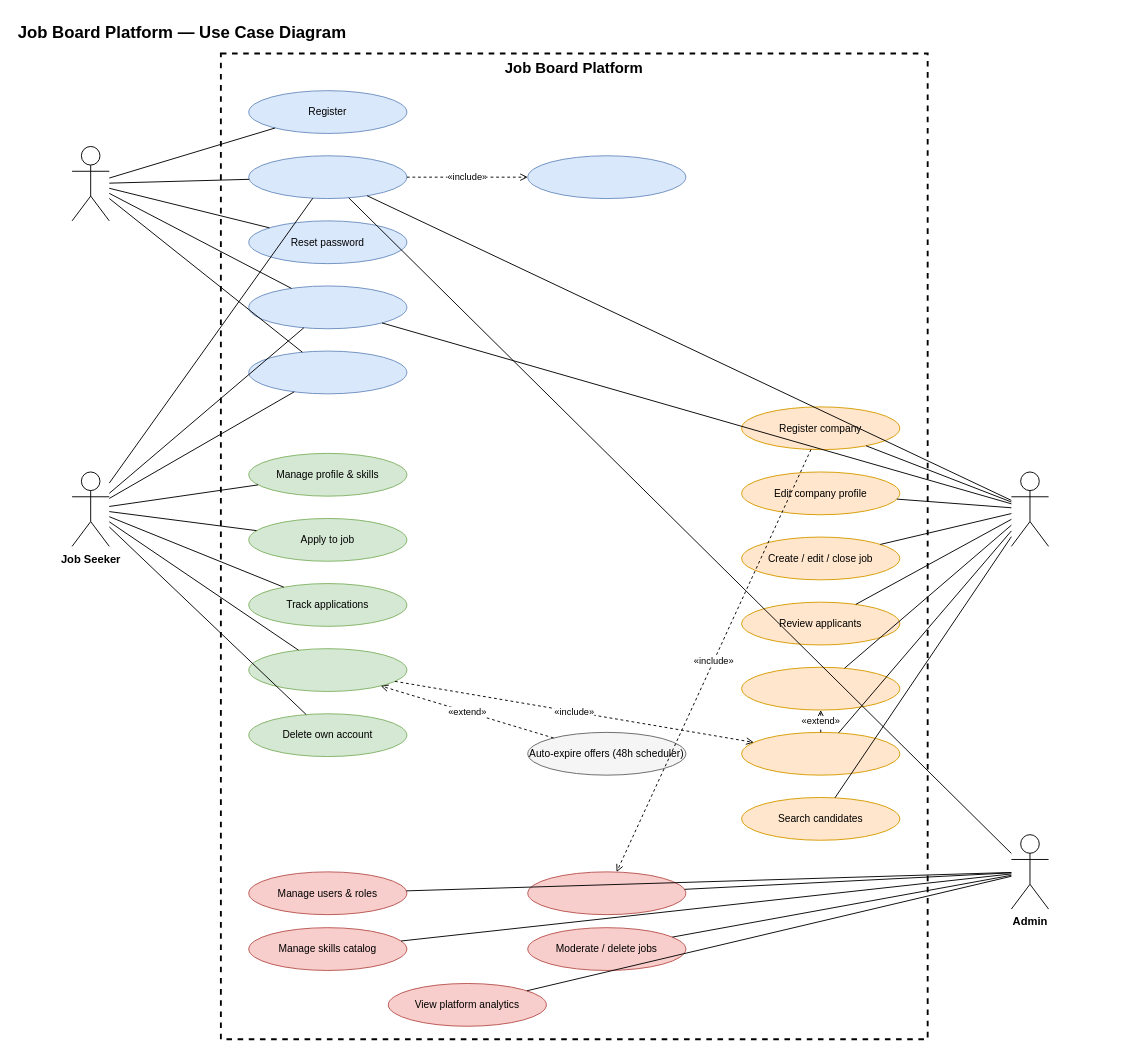
Image size: 1121x1056. Some labels were removed from this diagram. The centre of each missing label's shape, as x and y in pixels:
"Accept / decline offer" belongs at point (327, 669).
"Browse & search jobs" belongs at point (327, 307).
"Employer (Company Owner)" belongs at point (1029, 508).
"Guest" belongs at point (90, 183).
"Issue job offer" belongs at point (820, 753).
"Log in / Log out" belongs at point (327, 177).
"Refresh session token" belongs at point (606, 177).
"Update application status" belongs at point (820, 688).
"Verify company" belongs at point (606, 893).
"View company profiles" belongs at point (327, 372).
